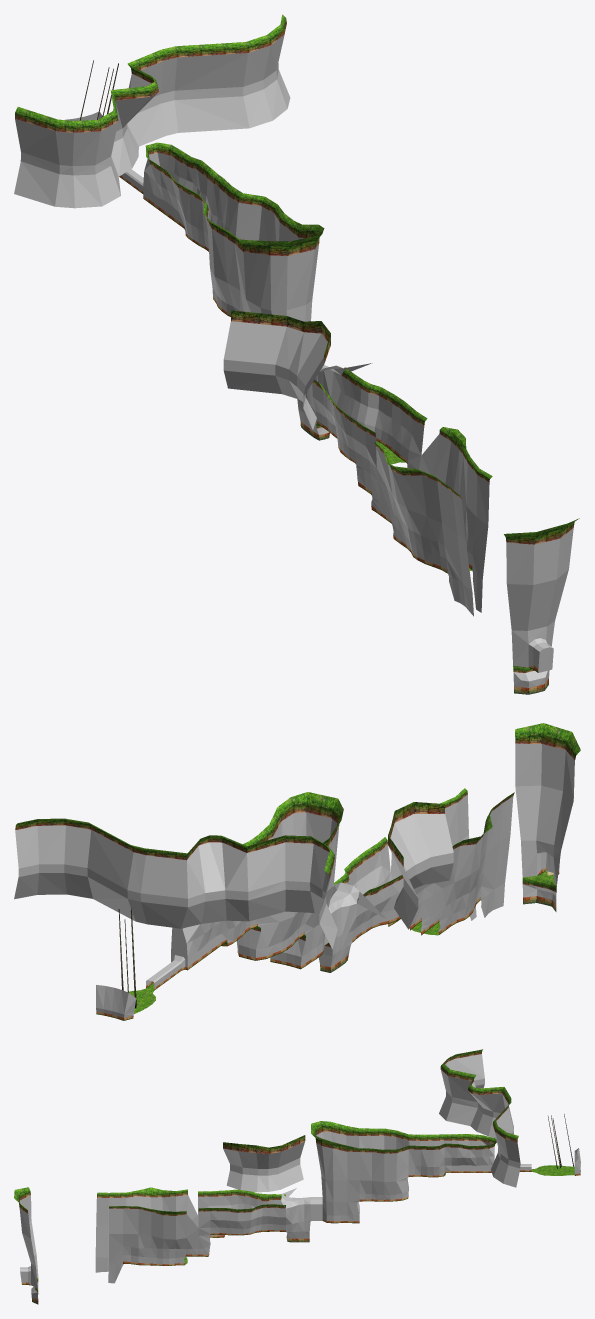
The model's file is Seagate5.obj.
3 renders of one model, top to bottom at view 1: azimuth 30°, elevation 25°; view 2: azimuth 150°, elevation 25°; view 3: azimuth 270°, elevation 25°, orthographic. The views are drawn at different scales.
Parts seen in each view (by area): view 1: obj4; view 2: obj4, obj3; view 3: obj4.
Part boxes in pixels (x1,y1,x2,y2): obj4: (14, 14, 579, 694); obj4: (14, 723, 580, 1020); obj3: (118, 908, 136, 1008); obj4: (14, 1049, 580, 1304).
Size of the model in its own units: 1730 by 1871 by 4617.
